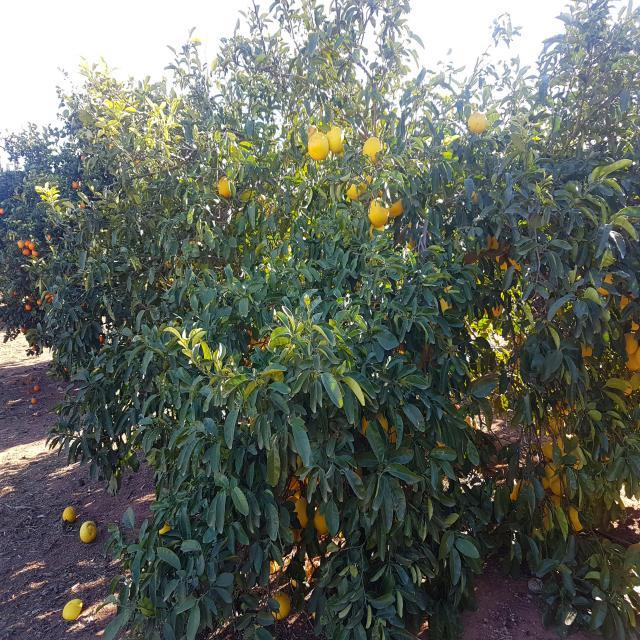Jeruk Sudah Matang: (22, 248, 30, 256), (18, 240, 25, 249), (28, 242, 35, 250), (45, 294, 52, 302), (51, 292, 58, 300), (13, 288, 20, 295), (72, 182, 79, 189), (32, 249, 38, 257), (28, 296, 34, 303), (34, 385, 40, 392), (80, 155, 86, 162), (80, 202, 86, 209), (36, 299, 42, 305), (31, 398, 37, 404), (26, 238, 30, 246), (46, 234, 51, 240), (9, 290, 14, 296), (26, 304, 31, 310), (21, 328, 26, 333), (0, 208, 4, 214), (26, 380, 30, 386), (34, 340, 38, 346), (64, 366, 68, 372), (13, 380, 17, 385), (30, 376, 34, 381), (32, 346, 36, 351), (82, 300, 85, 306), (99, 336, 102, 342), (102, 338, 105, 343), (78, 177, 81, 182), (0, 317, 2, 323), (27, 390, 30, 394)
